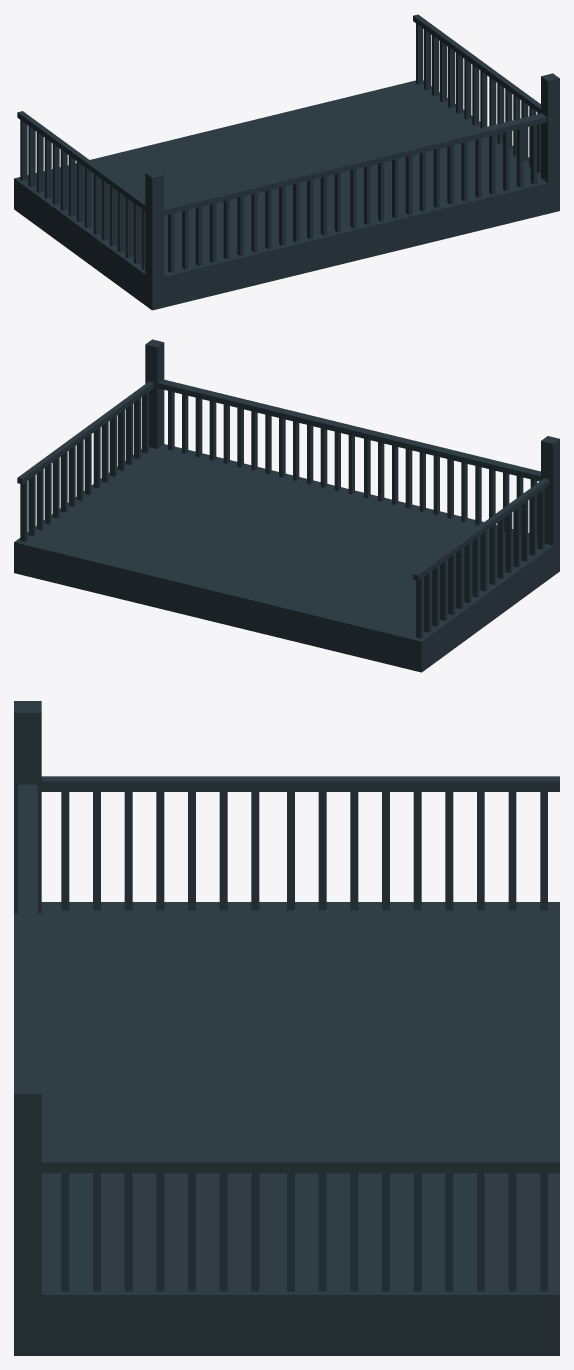
File: balcony1_darkBlue.obj
The picture shows the model from 3 angles, top to bottom: view 1: azimuth 30°, elevation 25°; view 2: azimuth 150°, elevation 25°; view 3: azimuth 270°, elevation 25°; orthographic projection. The views are drawn at different scales.
Size of the model in its own units: 23.5 by 7.3 by 13.8.
1 material, 1 textured.
